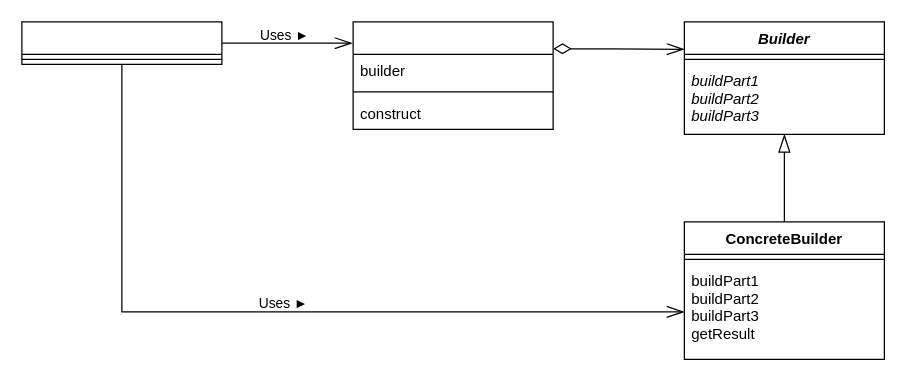
Some shapes in this 906 by 385 pixel diagram are drawn without their labels. Each missing label, with the box of its shape:
Client: (21, 21, 222, 64)
Director: (352, 21, 553, 129)
